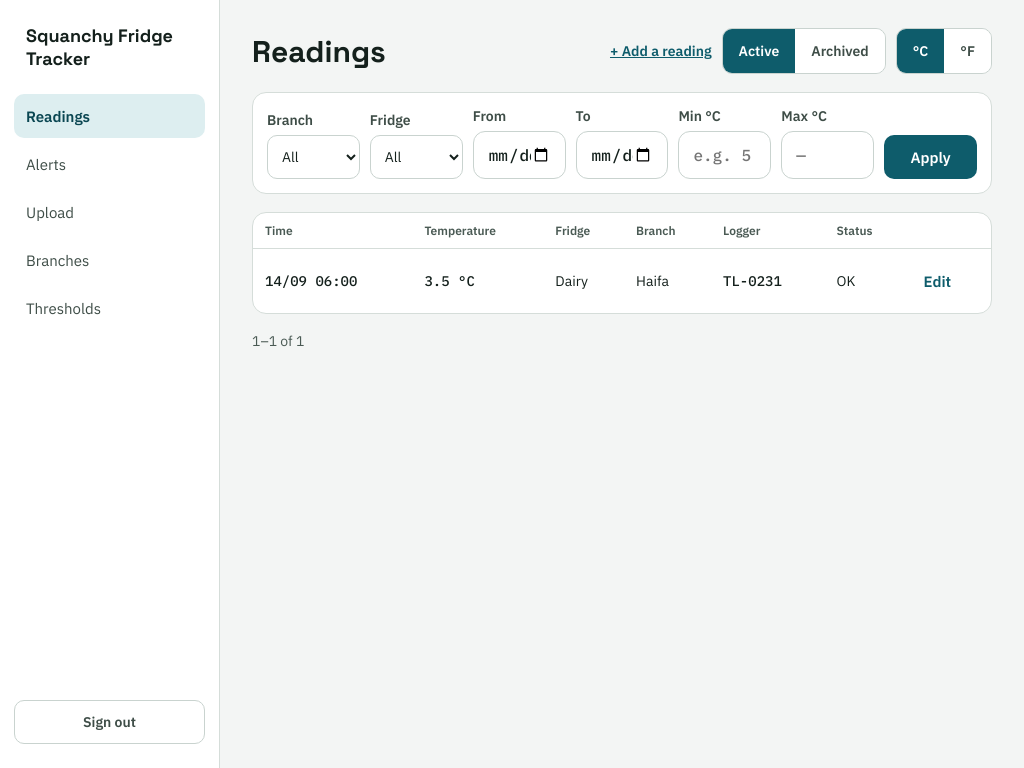
Test: ReadingsPage archive › shows archived readings read-only, with when they were archived
The image size is (1024, 768).
expect the button "Edit" is shown: met, box [919,259,956,303]
Click the button "Archived" at [840, 51], box [795,29,885,73]
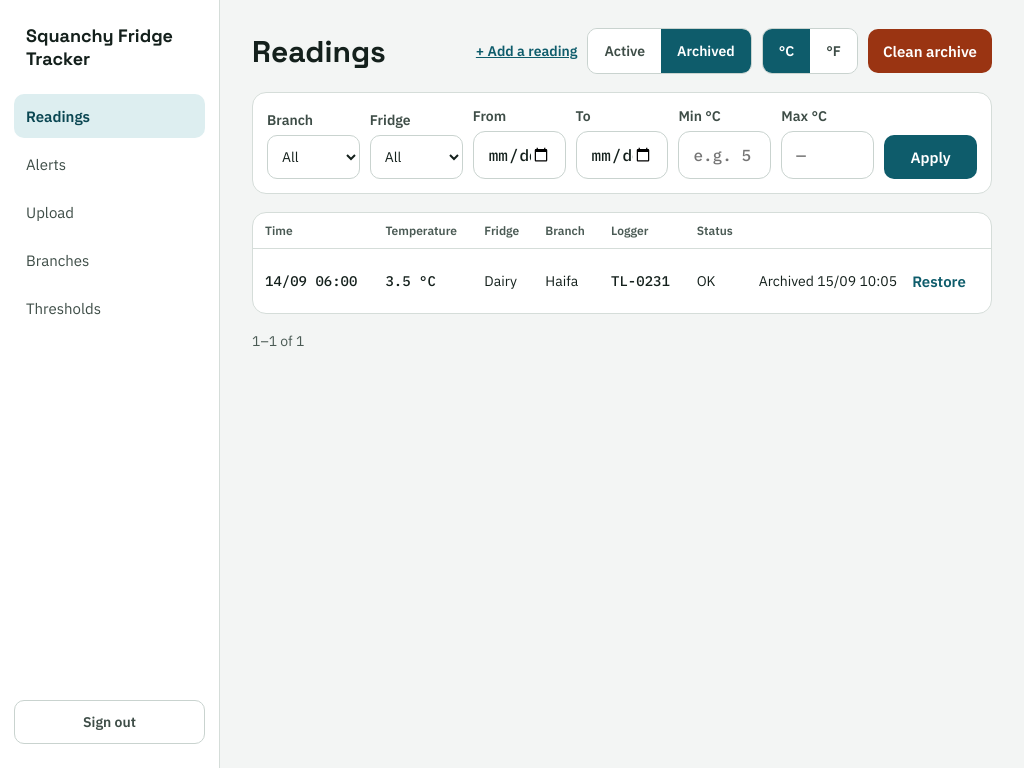
expect the text "Archived 15/09 10:05" is shown: met, box [759,272,897,290]
expect the button "Edit" is gone: met
